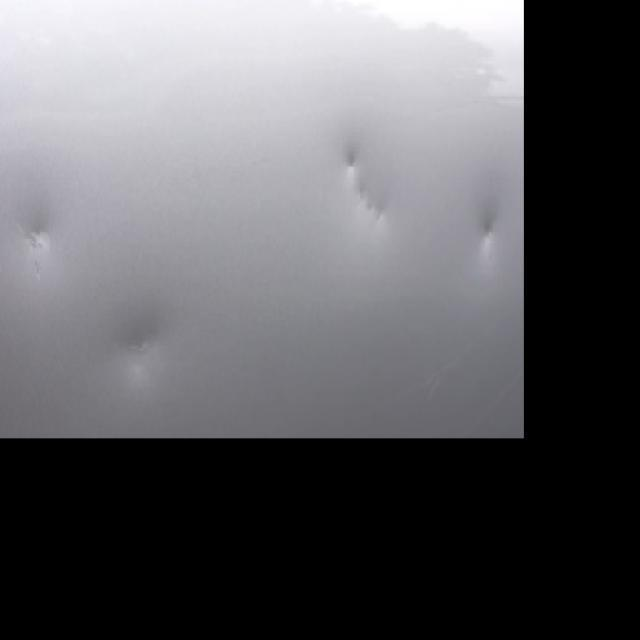dent: (335, 151, 390, 250), (92, 318, 166, 377), (11, 209, 60, 290), (463, 210, 494, 263)
